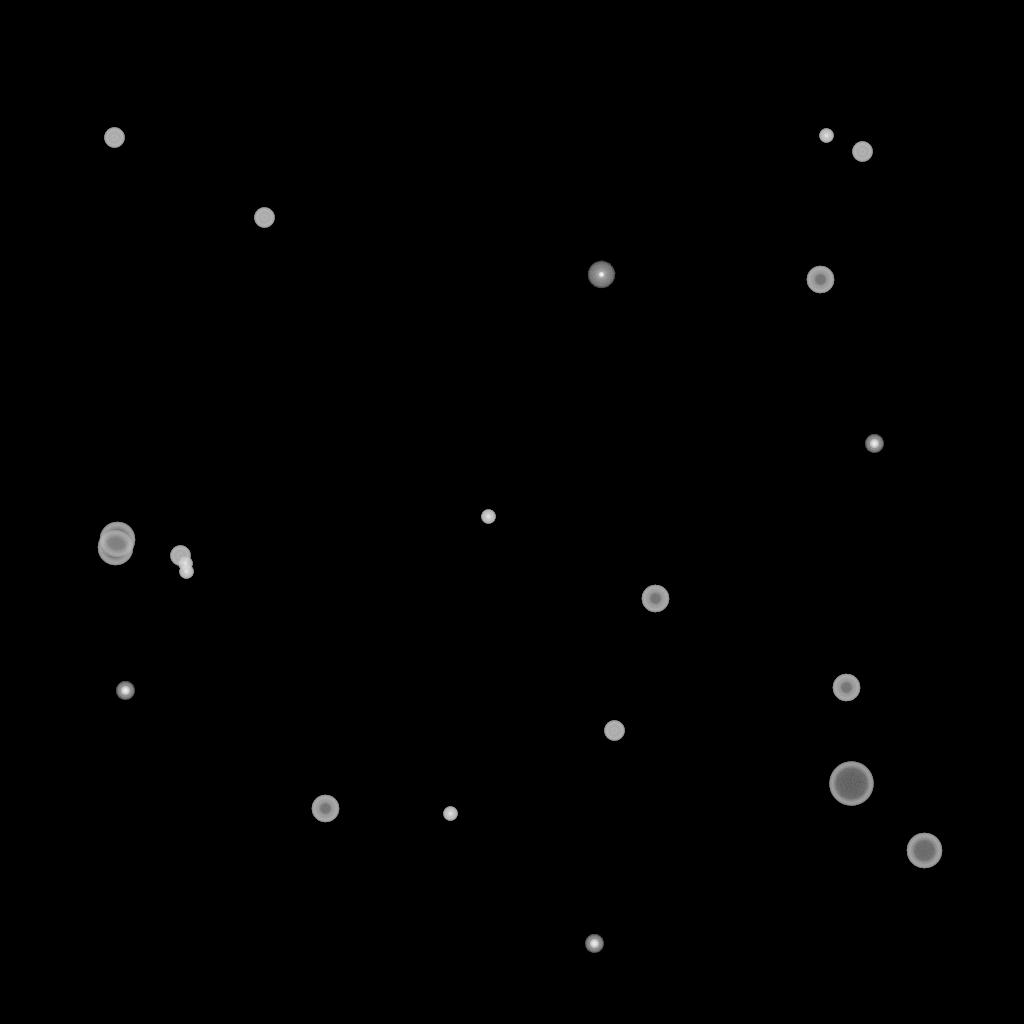depth:-10: (587, 261, 615, 289)
depth:-20: (585, 935, 603, 953), (116, 682, 134, 700), (865, 435, 883, 453)
depth:-30: (178, 557, 192, 571), (481, 510, 495, 524), (179, 565, 193, 579), (819, 129, 833, 143), (443, 807, 457, 821)
depth:-40: (604, 721, 624, 741), (852, 142, 872, 162), (170, 546, 190, 566), (104, 128, 124, 148), (254, 208, 274, 228)
depth:-50: (641, 585, 669, 613), (832, 674, 860, 702), (806, 266, 834, 294), (311, 795, 339, 823)
depth:-60: (97, 530, 133, 566), (906, 833, 942, 869), (99, 522, 135, 558)
depth:-70: (829, 762, 873, 806)
